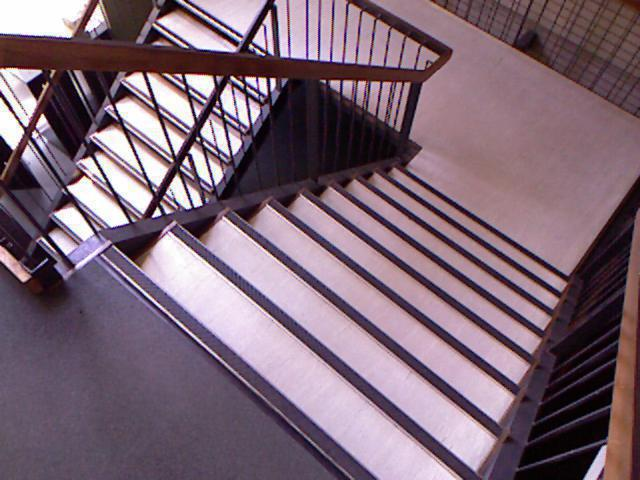Escaleras: (117, 168, 639, 479), (0, 30, 283, 323)
